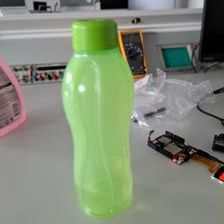bottle: (60, 17, 134, 221)
